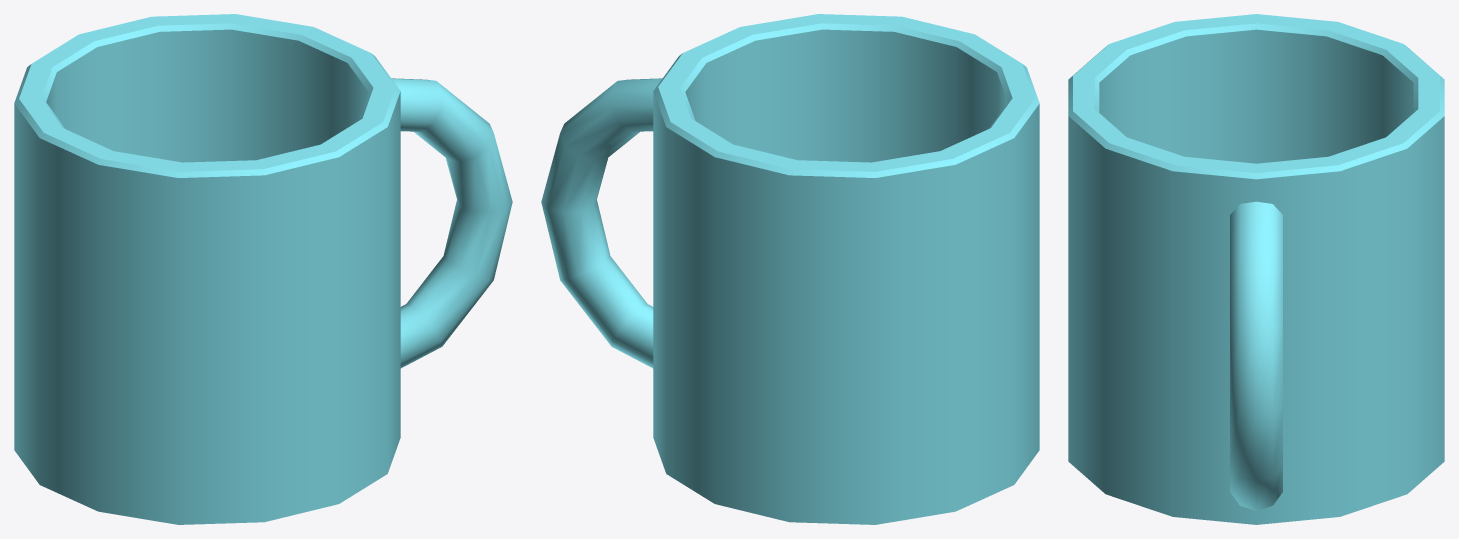
The model's file is Mug.fbx.
3 views of the same model, side by side, from view 1: azimuth 30°, elevation 25°; view 2: azimuth 150°, elevation 25°; view 3: azimuth 270°, elevation 25° (orthographic).
Visible parts, largest first — view 1: CoffeeMug; view 2: CoffeeMug; view 3: CoffeeMug.
Boxes of the visible parts, bbox=[...] form: CoffeeMug: bbox=[14, 14, 512, 524]; CoffeeMug: bbox=[541, 14, 1039, 524]; CoffeeMug: bbox=[1068, 14, 1444, 524].
Size of the model in its own units: 2.33 by 1.67 by 1.62.
